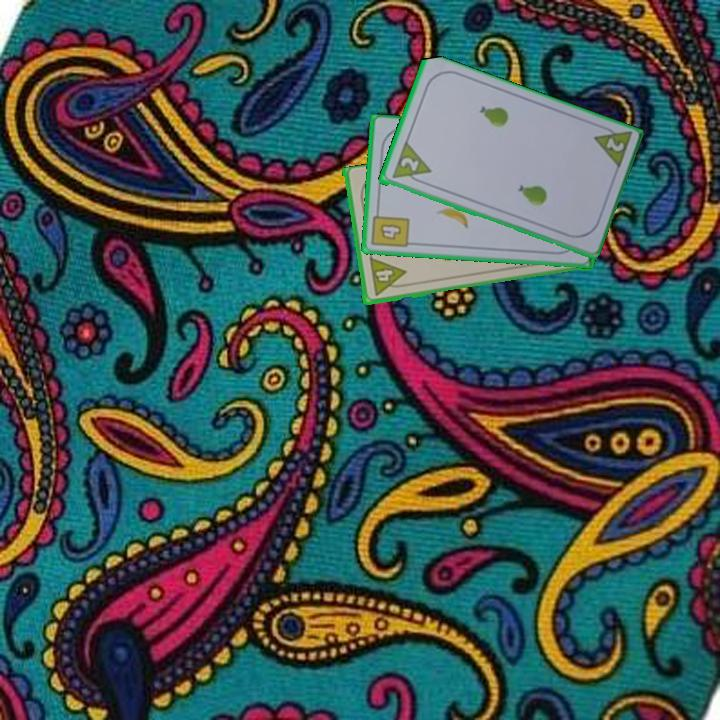2p: (396, 153, 422, 175), (602, 134, 627, 155)
4b: (368, 205, 412, 251)
4p: (366, 255, 409, 299)
